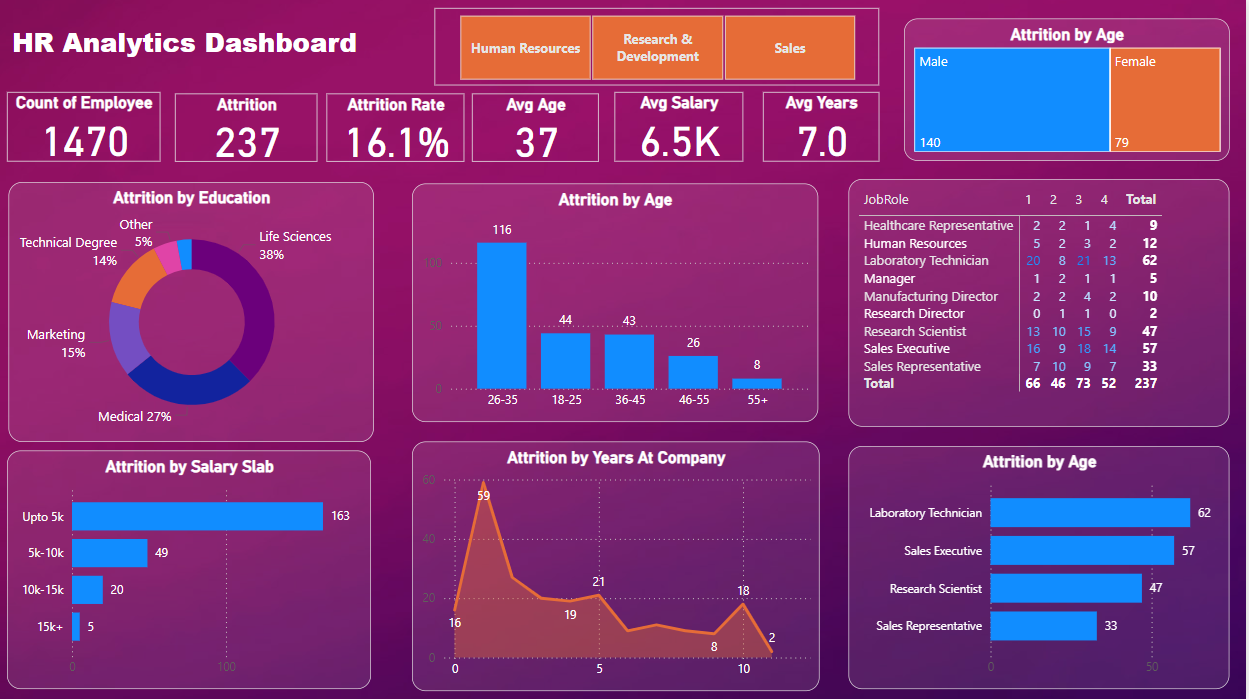

The page's visual inventory and layout, read from the dashboard file:
{"tool":"powerbi","page":{"name":"Page 1","canvas":[1280,720],"ordinal":0},"visuals":[{"type":"card","title":"Count of Employee","fields":{"Values":["CountNonNull(HR_Analytics.EmpID)"]},"box":[9.5,95.4,157.4,71.5],"z":0},{"type":"card","title":"Attrition","fields":{"Values":["Sum(HR_Analytics.Attritioncount)"]},"box":[181.2,97,146.2,69.9],"z":1000},{"type":"card","title":"Attrition Rate","fields":{"Values":["HR_Analytics.AttritionRate"]},"box":[337,97,141.5,69.9],"z":2000},{"type":"card","title":"Avg Age","fields":{"Values":["Avg(HR_Analytics.Age)"]},"box":[486.4,97,130.3,69.9],"z":3000},{"type":"card","title":"Avg Salary","fields":{"Values":["Avg(HR_Analytics.MonthlyIncome)"]},"box":[632.6,95.4,131.9,71.5],"z":4000},{"type":"card","title":"Avg Years","fields":{"Values":["Avg(HR_Analytics.YearsAtCompany)"]},"box":[785.2,95.4,119.2,71.5],"z":5000},{"type":"donutChart","title":"Attrition by Education","fields":{"Category":["HR_Analytics.EducationField"],"Y":["Sum(HR_Analytics.Attritioncount)"]},"box":[9.1,178.4,373.9,265.9],"z":6000},{"type":"columnChart","title":"Attrition by Age","fields":{"Category":["HR_Analytics.AgeGroup"],"Y":["Sum(HR_Analytics.Attritioncount)"]},"box":[424.4,189.1,416.4,244.8],"z":7000},{"type":"pivotTable","fields":{"Rows":["HR_Analytics.JobRole"],"Columns":["HR_Analytics.JobSatisfaction"],"Values":["Sum(HR_Analytics.Attritioncount)"]},"box":[872.6,184.4,391,254.3],"z":8000},{"type":"barChart","title":"Attrition by Salary Slab","fields":{"Category":["HR_Analytics.SalarySlab"],"Y":["Sum(HR_Analytics.Attritioncount)"]},"box":[9.5,462.5,373.5,244.8],"z":9000},{"type":"barChart","title":"Attrition by Age","fields":{"Category":["HR_Analytics.JobRole"],"Y":["Sum(HR_Analytics.Attritioncount)"]},"box":[872.6,457.7,391,249.5],"z":10000},{"type":"areaChart","title":"Attrition by Years At Company","fields":{"Category":["HR_Analytics.YearsAtCompany"],"Y":["Sum(HR_Analytics.Attritioncount)"]},"box":[424.4,454.6,418,255.9],"z":11000},{"type":"treemap","title":"Attrition by Age","fields":{"Group":["HR_Analytics.Gender"],"Values":["Sum(HR_Analytics.Attritioncount)"]},"box":[929.8,20.7,333.8,146.2],"z":12000},{"type":"slicer","fields":{"Values":["HR_Analytics.Department"]},"box":[448.2,9.5,456.2,79.5],"z":13000},{"type":"textbox","box":[9.5,20.7,387.8,52.5],"z":14000}]}

Visuals, with their boxes in screenshot pixels (x1, y1, x2, y2), scaled from the page's 1280x720 canvas onto the 1249x699 screenshot:
"Count of Employee" card: detection(9, 93, 163, 162)
"Attrition" card: detection(177, 94, 319, 162)
"Attrition Rate" card: detection(329, 94, 467, 162)
"Avg Age" card: detection(475, 94, 602, 162)
"Avg Salary" card: detection(617, 93, 746, 162)
"Avg Years" card: detection(766, 93, 882, 162)
"Attrition by Education" donutChart: detection(9, 173, 374, 431)
"Attrition by Age" columnChart: detection(414, 184, 820, 421)
pivotTable - HR_Analytics.JobRole x HR_Analytics.JobSatisfaction: detection(851, 179, 1233, 426)
"Attrition by Salary Slab" barChart: detection(9, 449, 374, 687)
"Attrition by Age" barChart: detection(851, 444, 1233, 687)
"Attrition by Years At Company" areaChart: detection(414, 441, 822, 690)
"Attrition by Age" treemap: detection(907, 20, 1233, 162)
slicer - HR_Analytics.Department: detection(437, 9, 882, 86)
textbox: detection(9, 20, 388, 71)
